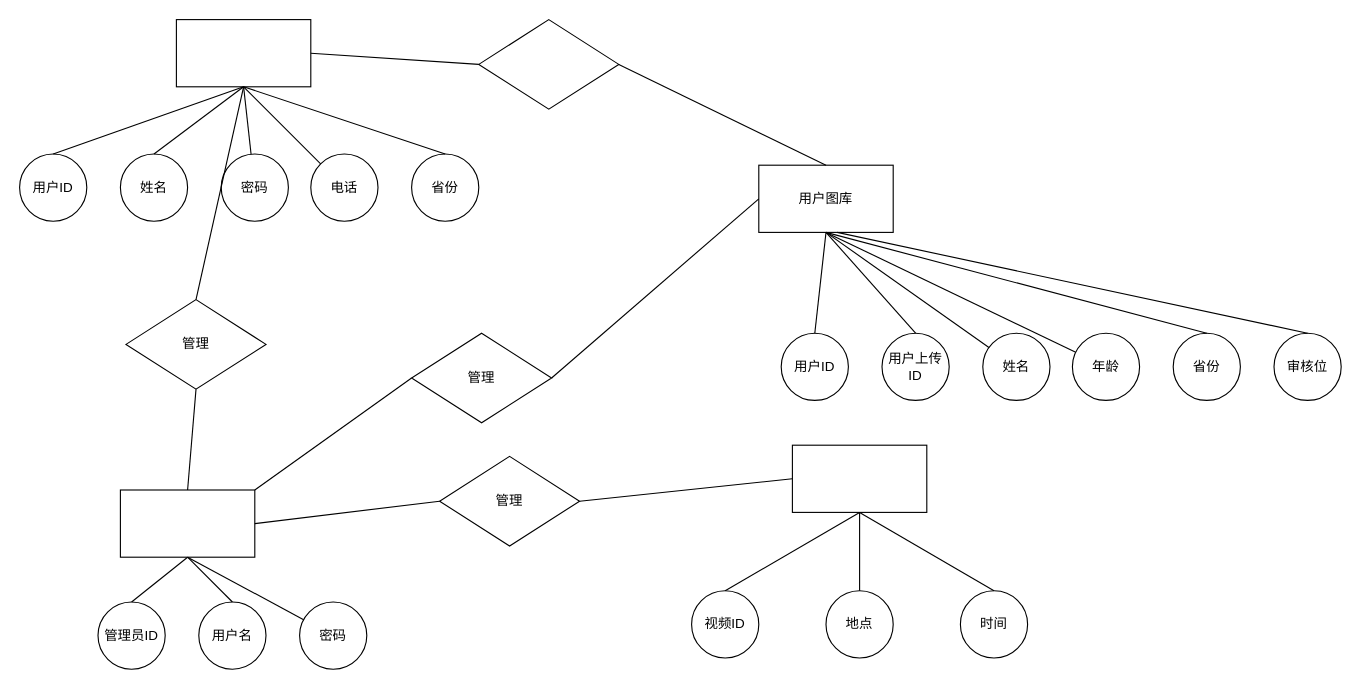
Some shapes in this 1361 by 689 pixel diagram are drawn without their labels. The centre of each missing label's shape, as x and y in pixels:
上传/删除: point 548,63
普通用户: point 243,52
管理员: point 187,523
管理员视频库: point 859,478
